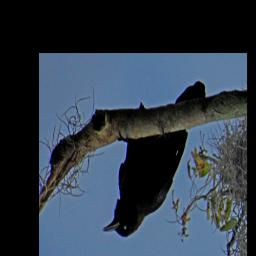Crow: (103, 80, 206, 237)
